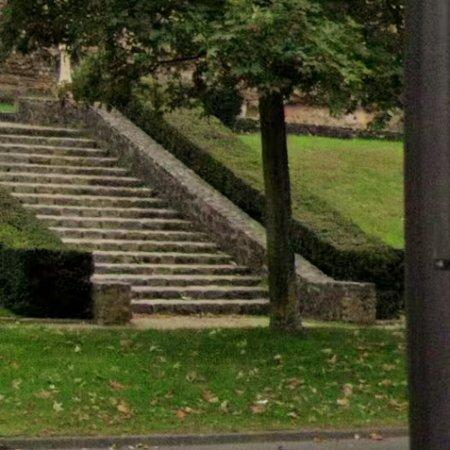stairs: (0, 122, 269, 315)
